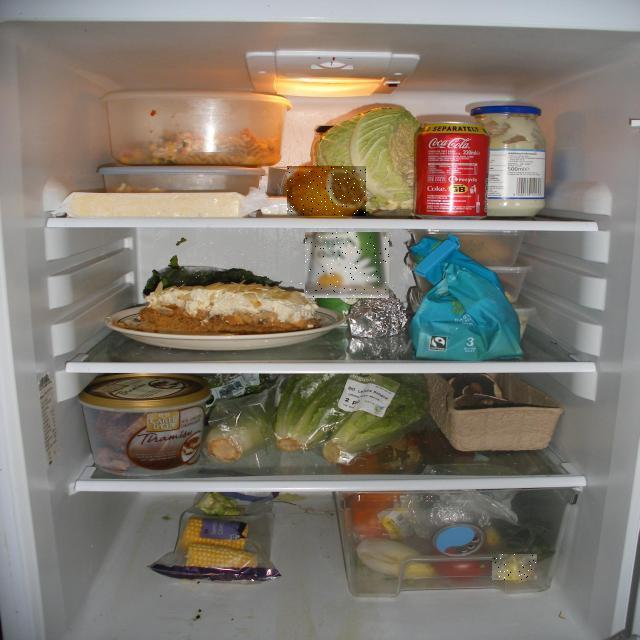Lemon: (287, 166, 366, 216), (492, 555, 537, 581)
Yoghurt: (305, 232, 389, 298)
